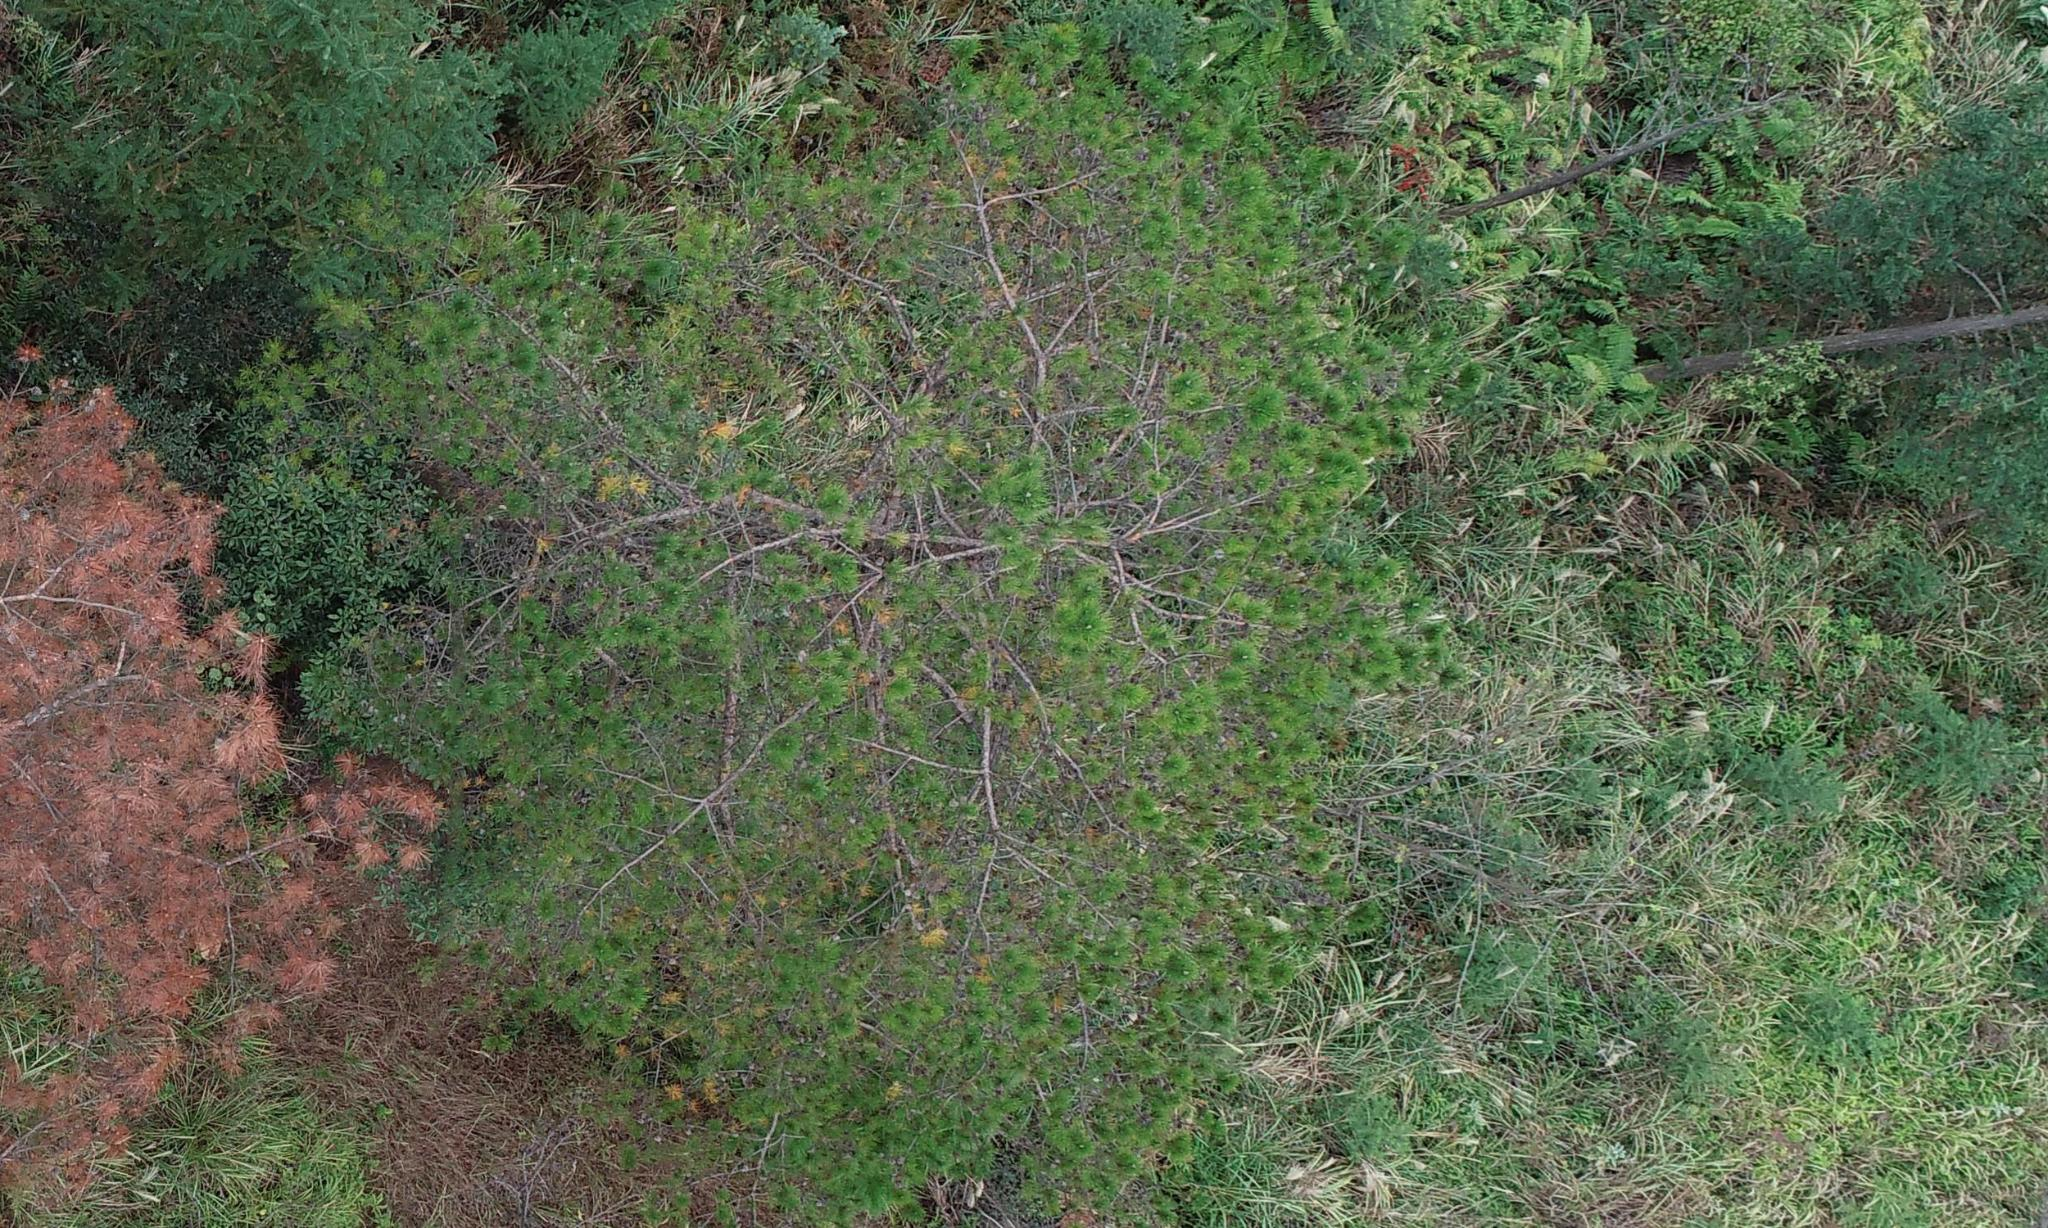heavy: (1, 345, 440, 1174)
